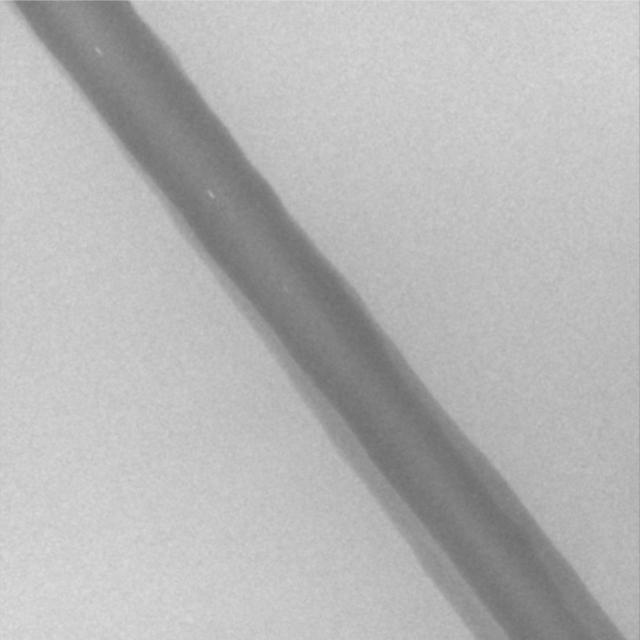air hole: (205, 188, 215, 200), (93, 44, 103, 56)
